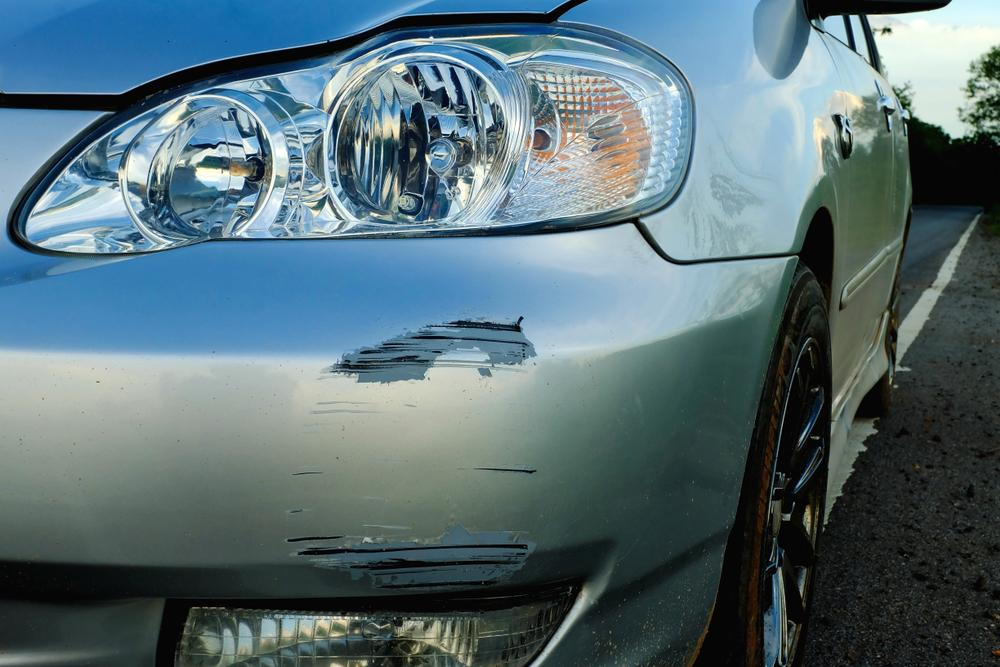scratch: (279, 305, 551, 593)
